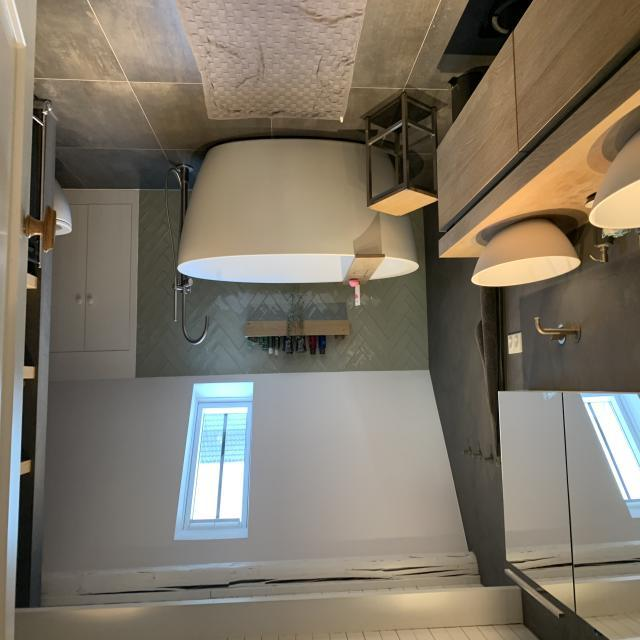bath: (218, 291, 474, 506)
toilet: (568, 394, 593, 468)
wastafel: (0, 380, 206, 640), (0, 298, 173, 523)
